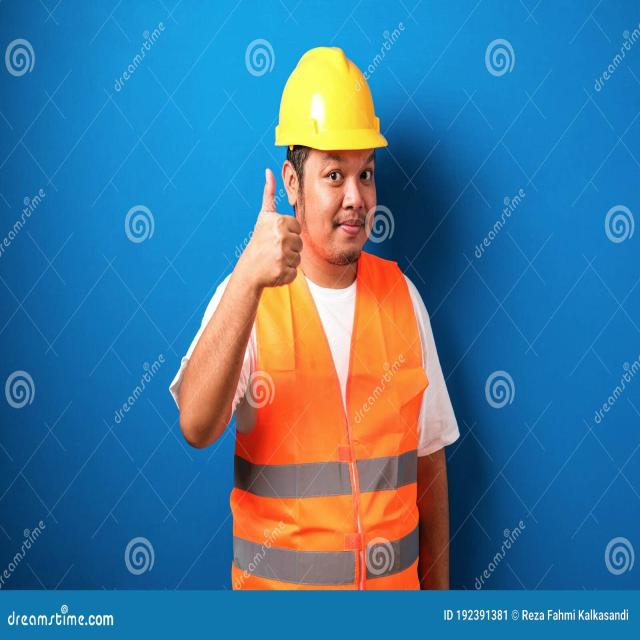helmet: (275, 42, 393, 150)
no-goggles: (287, 138, 388, 198)
vest: (239, 242, 420, 592)
